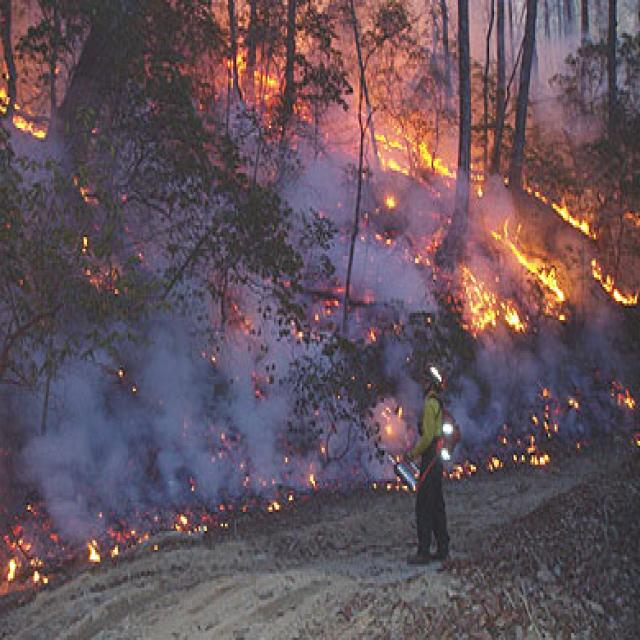fire: (0, 14, 440, 352), (444, 66, 640, 481), (0, 359, 381, 538), (0, 484, 150, 592)
person: (390, 360, 466, 576)
